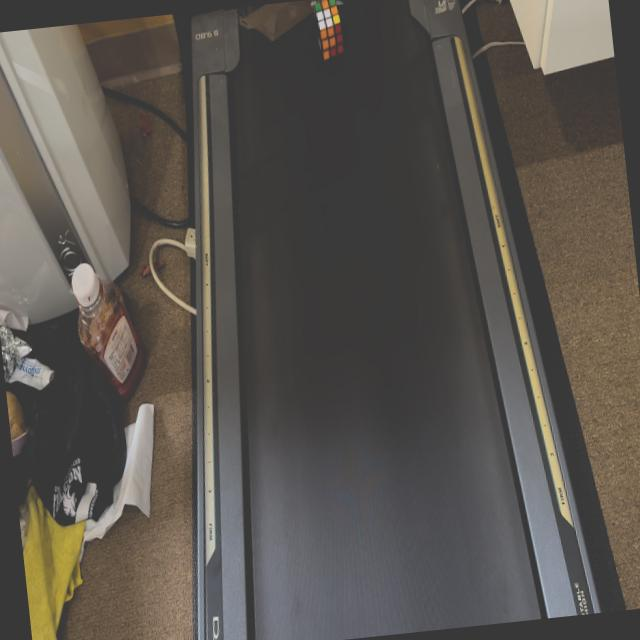Trash: (309, 0, 346, 64)
